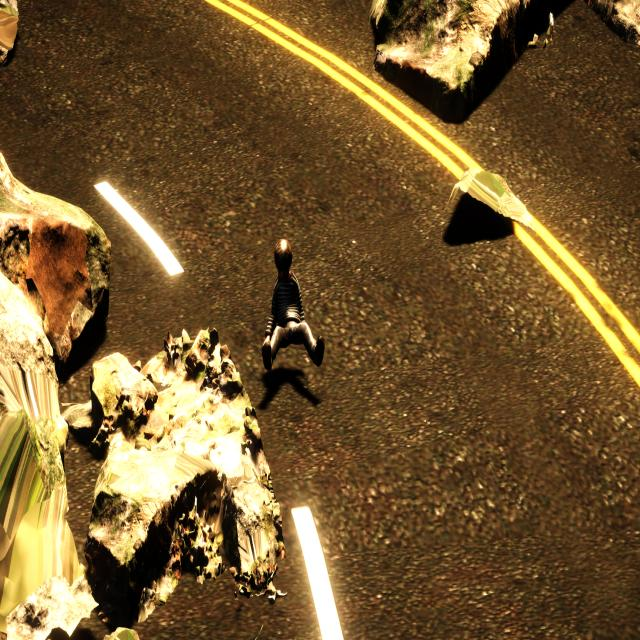Human: (258, 234, 328, 376)
